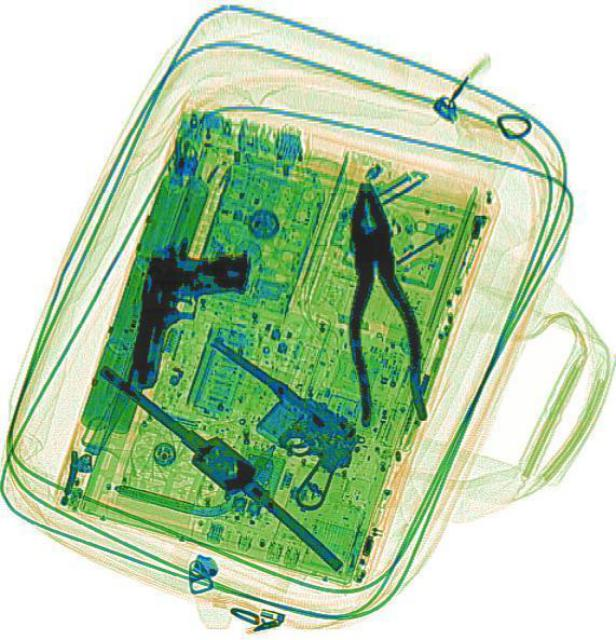Gun: (163, 324, 373, 514), (122, 231, 253, 403)
Pliers: (327, 175, 429, 425)
